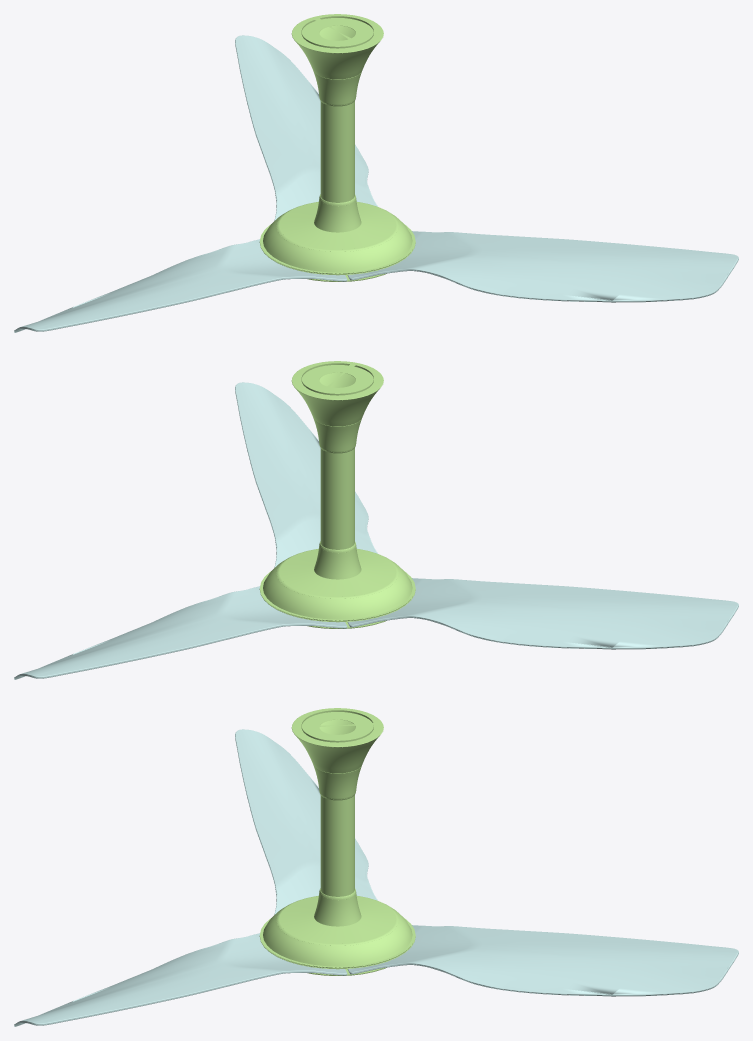
Rendered from HaikuBamboo.fbx.
The picture shows the model from 3 angles, top to bottom: view 1: azimuth 30°, elevation 25°; view 2: azimuth 150°, elevation 25°; view 3: azimuth 270°, elevation 25°; orthographic projection.
Parts seen in each view (by area): view 1: Rectangle003, Shape008, Shape007, Shape009; view 2: Rectangle003, Shape009, Shape008, Shape007; view 3: Rectangle003, Shape007, Shape009, Shape008.
Boxes of the visible parts, x1,y1,x2,y2 form: Rectangle003: (259, 14, 415, 281); Shape008: (347, 231, 738, 302); Shape007: (235, 35, 377, 220); Shape009: (14, 239, 347, 332); Rectangle003: (259, 361, 415, 628); Shape009: (347, 578, 738, 649); Shape008: (235, 382, 377, 567); Shape007: (14, 586, 347, 679); Rectangle003: (259, 708, 415, 975); Shape007: (347, 925, 738, 996); Shape009: (235, 729, 377, 914); Shape008: (14, 933, 347, 1026).
Size of the model in its own units: 9643 by 3516 by 10000.
